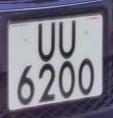0: (58, 57, 77, 102), (77, 55, 96, 100)
2: (36, 59, 59, 105)
6: (14, 63, 38, 108)
U: (35, 20, 59, 65), (56, 19, 79, 62)
